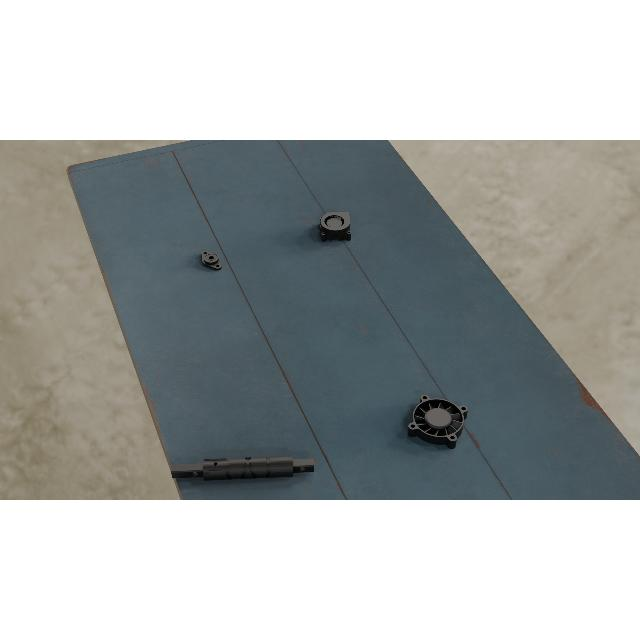Pieza1: (170, 450, 314, 486)
Pieza2: (196, 246, 228, 274)
Pieza3: (320, 212, 352, 242)
Pieza4: (406, 393, 470, 451)
